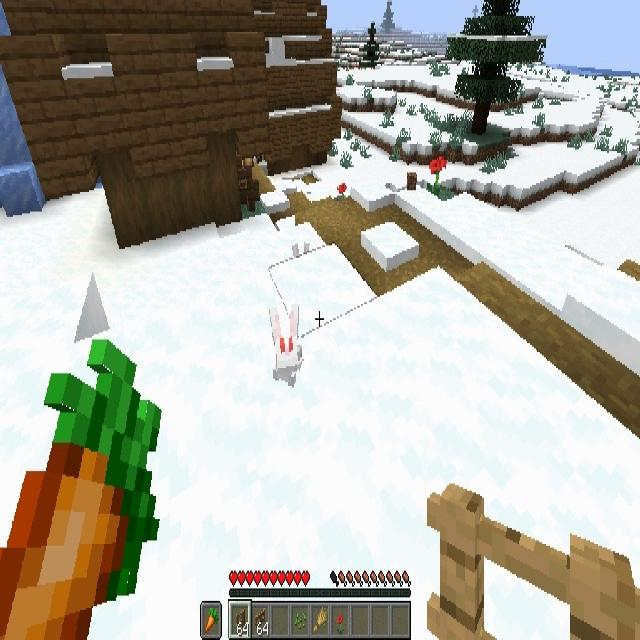rabbit: (272, 304, 304, 386)
